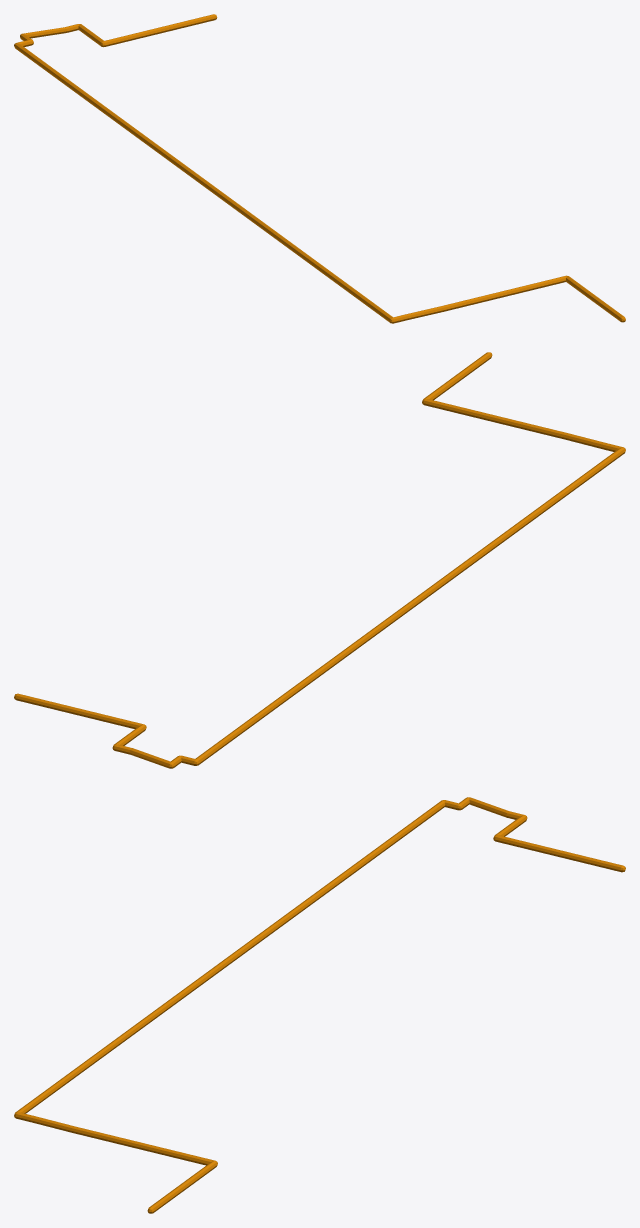
The picture shows the model from 3 angles, top to bottom: view 1: azimuth 30°, elevation 25°; view 2: azimuth 150°, elevation 25°; view 3: azimuth 330°, elevation 25°; orthographic projection. The views are drawn at different scales.
Size of the model in its own units: 660 by 20 by 2773.
